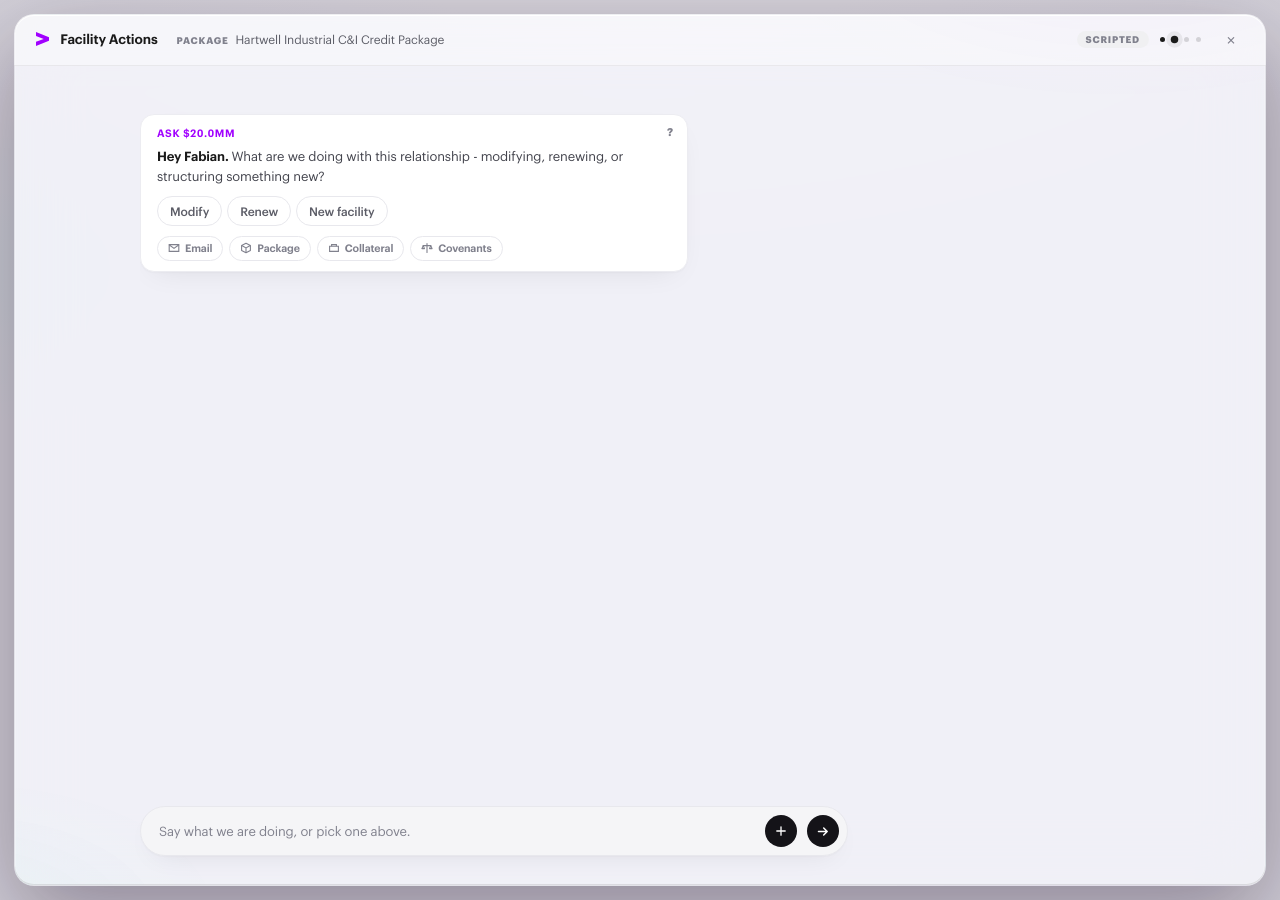
Test: the entry choreography - the tiers arrive one at a time › blends the package identity in when the route is picked, and the question leaves
Click the button with class "wk-opt" showing "Modify" at (190,211), box [157,196,222,226]
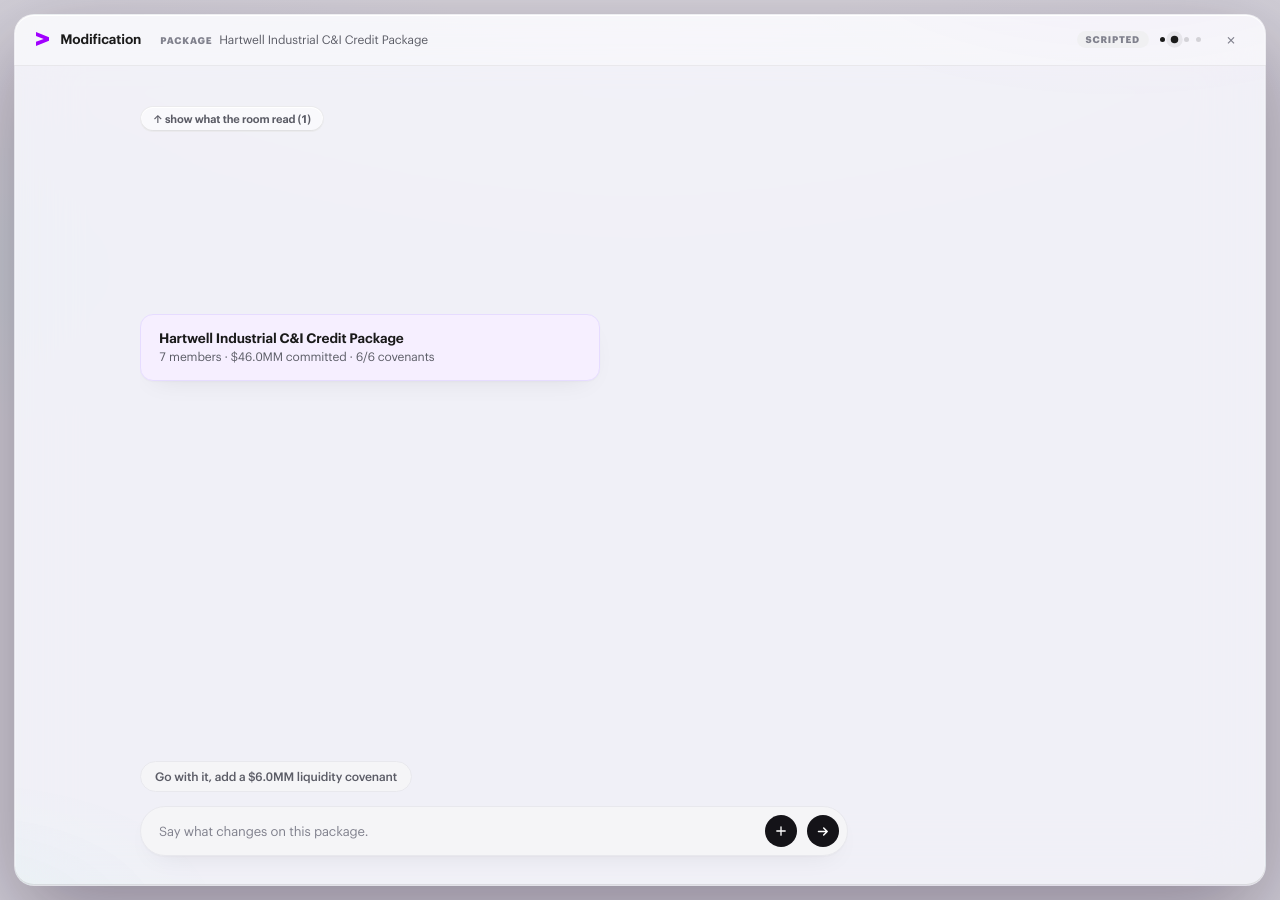
expect the element with class "wk-pkgs" is shown: met, box [140,314,600,381]
